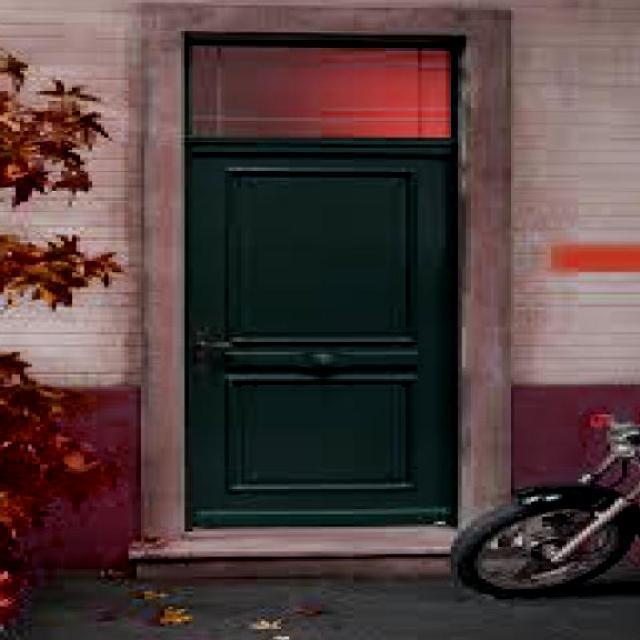door: (184, 142, 457, 527)
